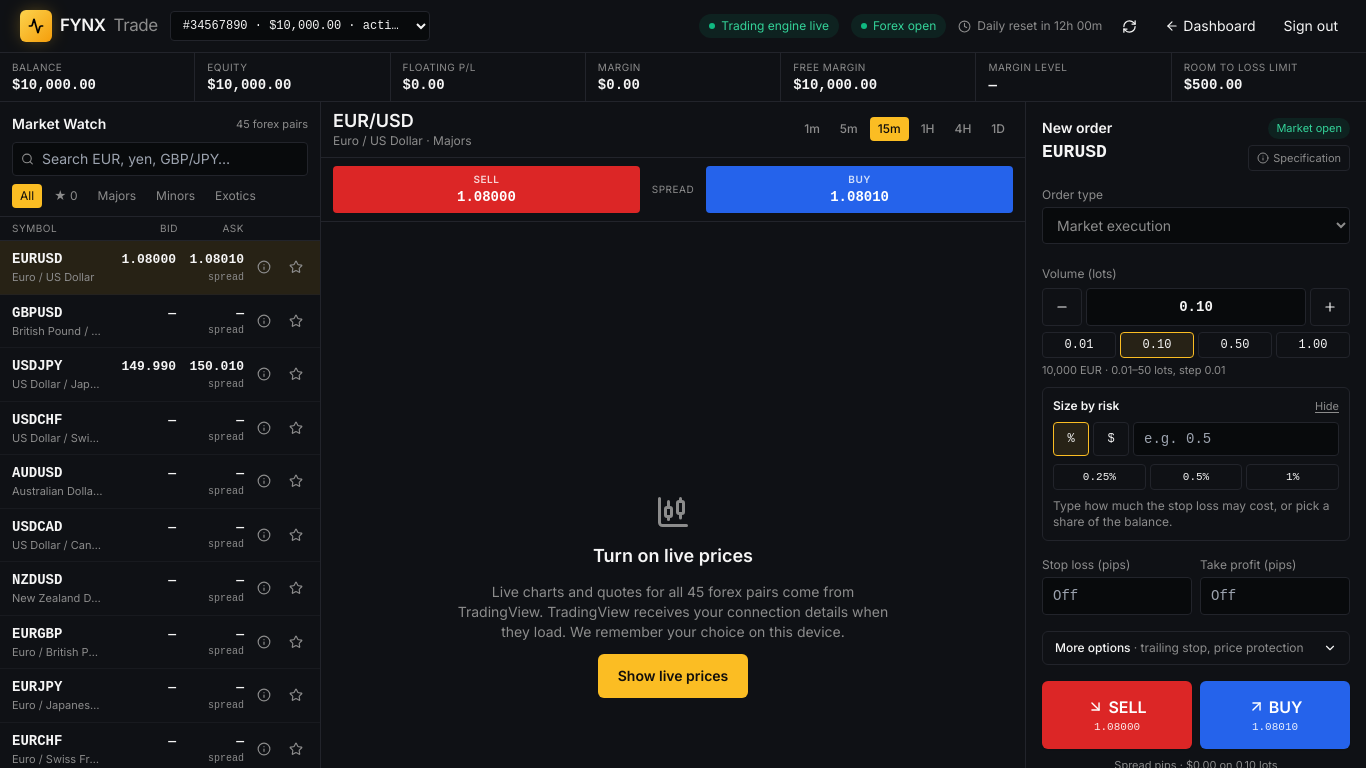
size by risk in the order ticket › works out the volume from a share of the balance and fills the volume field
Earlier steps of the test are not shown.
Expected: the element with test id "risk-size" shows "Type how much the stop loss may cost", [1053, 498, 1330, 528]
Click the button named "Risk 0.5% of the balance": point(1196, 476) [1150, 464, 1242, 490]
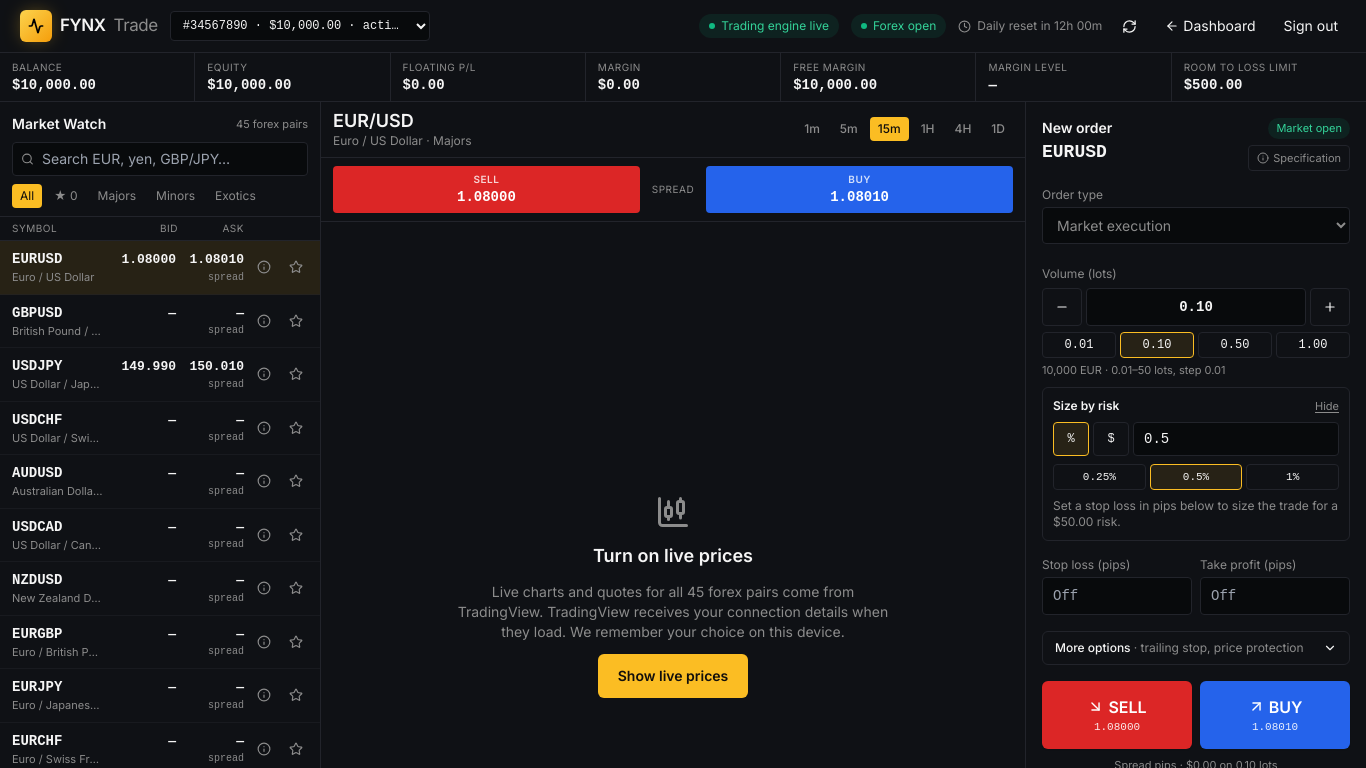
Expected: the element with test id "risk-size" shows "Set a stop loss in pips below to size the trade for a $50.00 risk.", [1042, 386, 1350, 540]
In the field labelled "Stop loss (pips)": point(1117, 596) [1042, 576, 1192, 614], type "15"
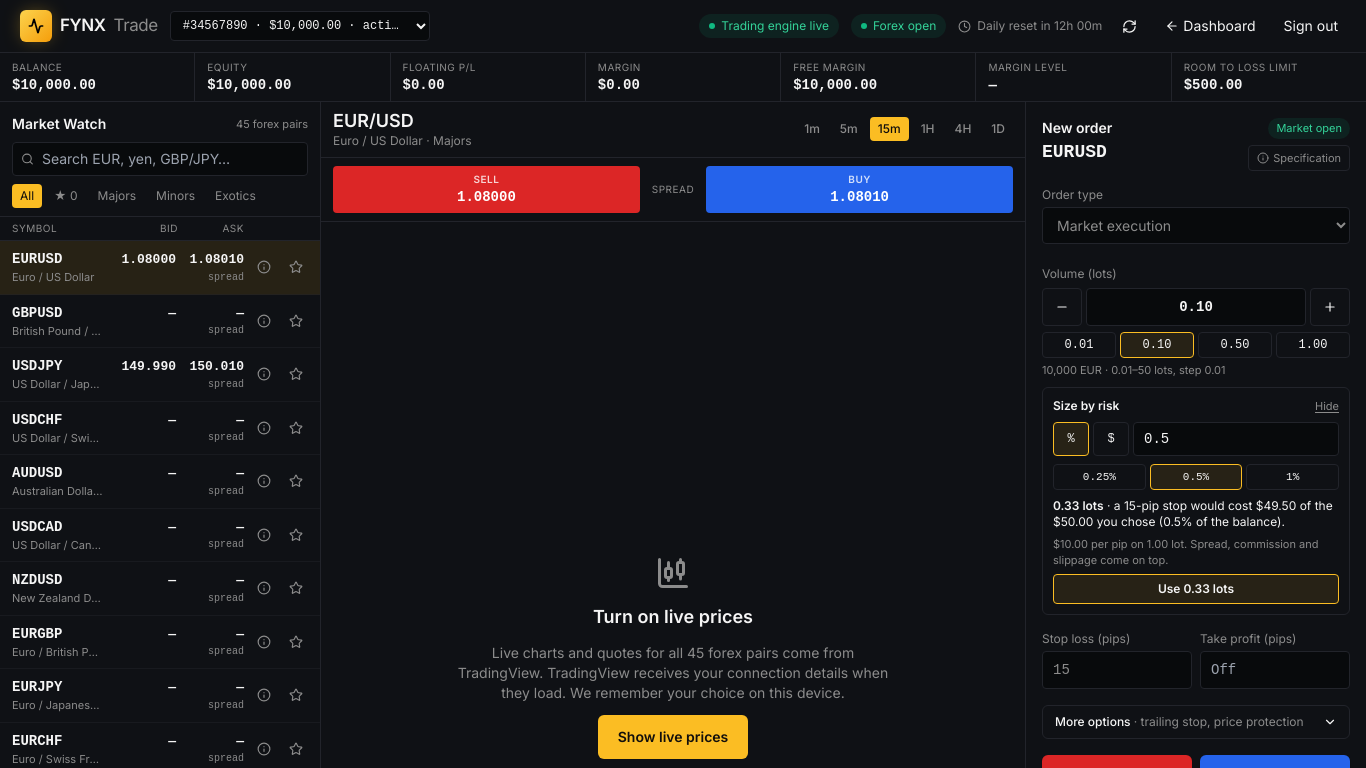
Expected: the element with test id "risk-size-result" shows "0.33 lots · a 15-pip stop would cost $49.50 of the $50.00 you chose (0.5% of the balance).", [1053, 498, 1339, 530]
Click the button with test id "risk-size-use": point(1196, 588) [1053, 574, 1339, 604]
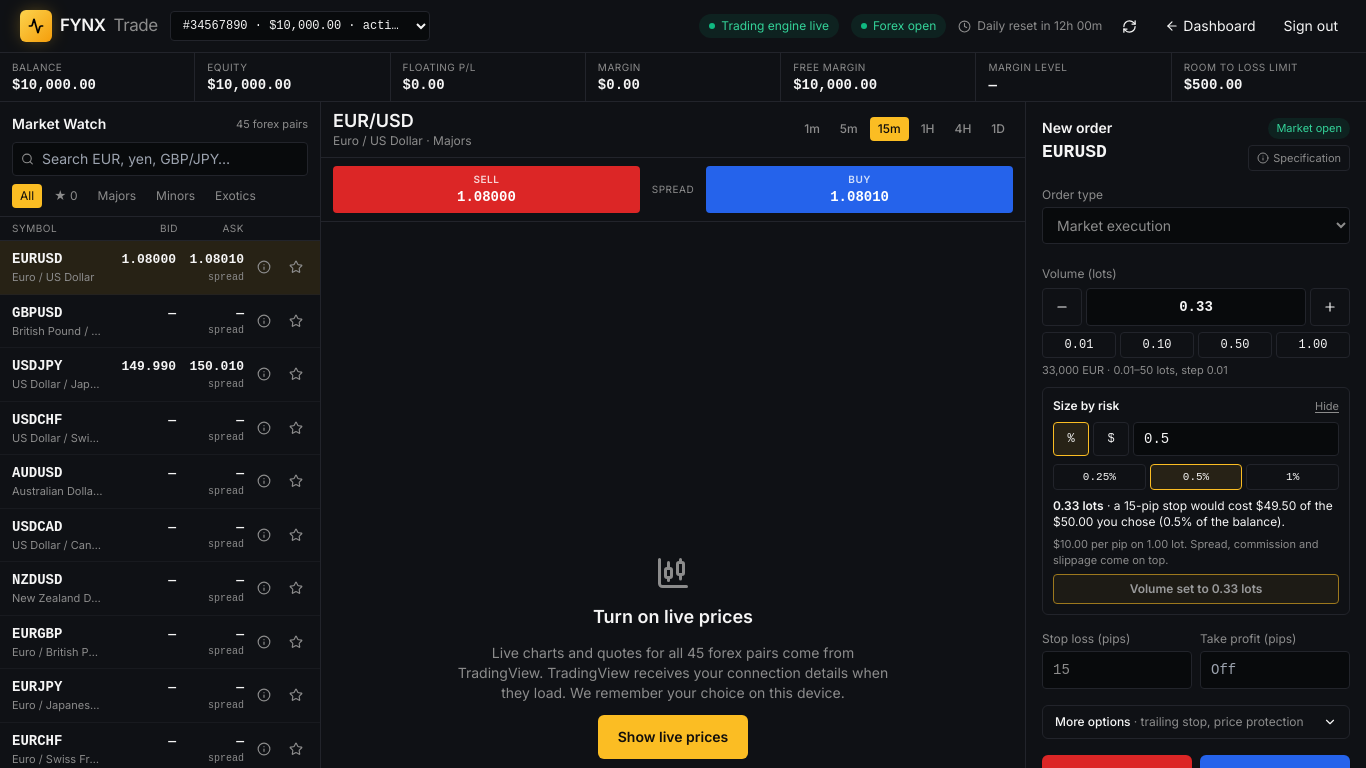
Expected: the field labelled "Volume (lots)" holds "0.33", [1086, 288, 1306, 326]
Expected: the button with test id "risk-size-use" reads "Volume set to 0.33 lots", [1053, 574, 1339, 604]
// Dollars, too, with a warning when the risk reaches the loss limit ($1,000 of room on a fresh $10,000 account).
Click the button named "Dollars": point(1111, 438) [1093, 422, 1129, 456]
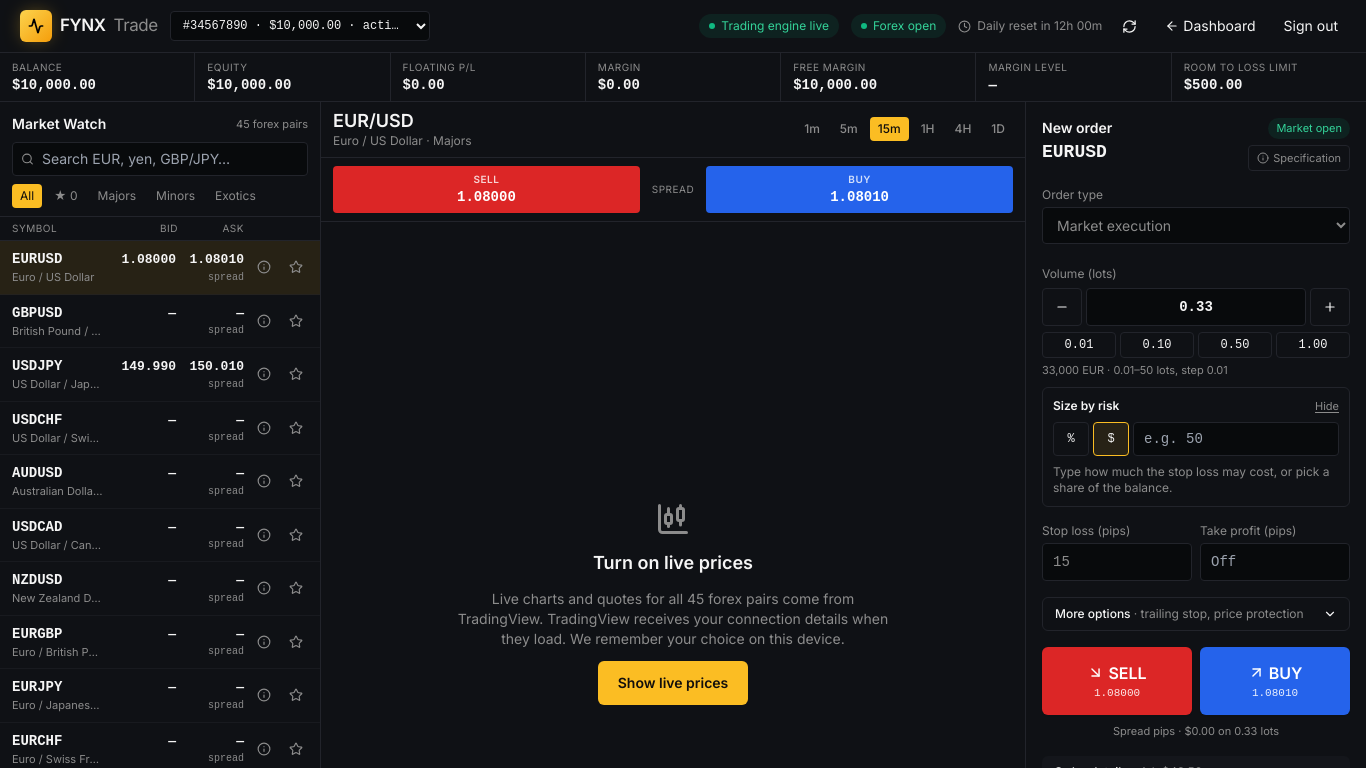
In the field named "Risk (dollars)": point(1236, 438) [1133, 422, 1339, 456], type "1000"
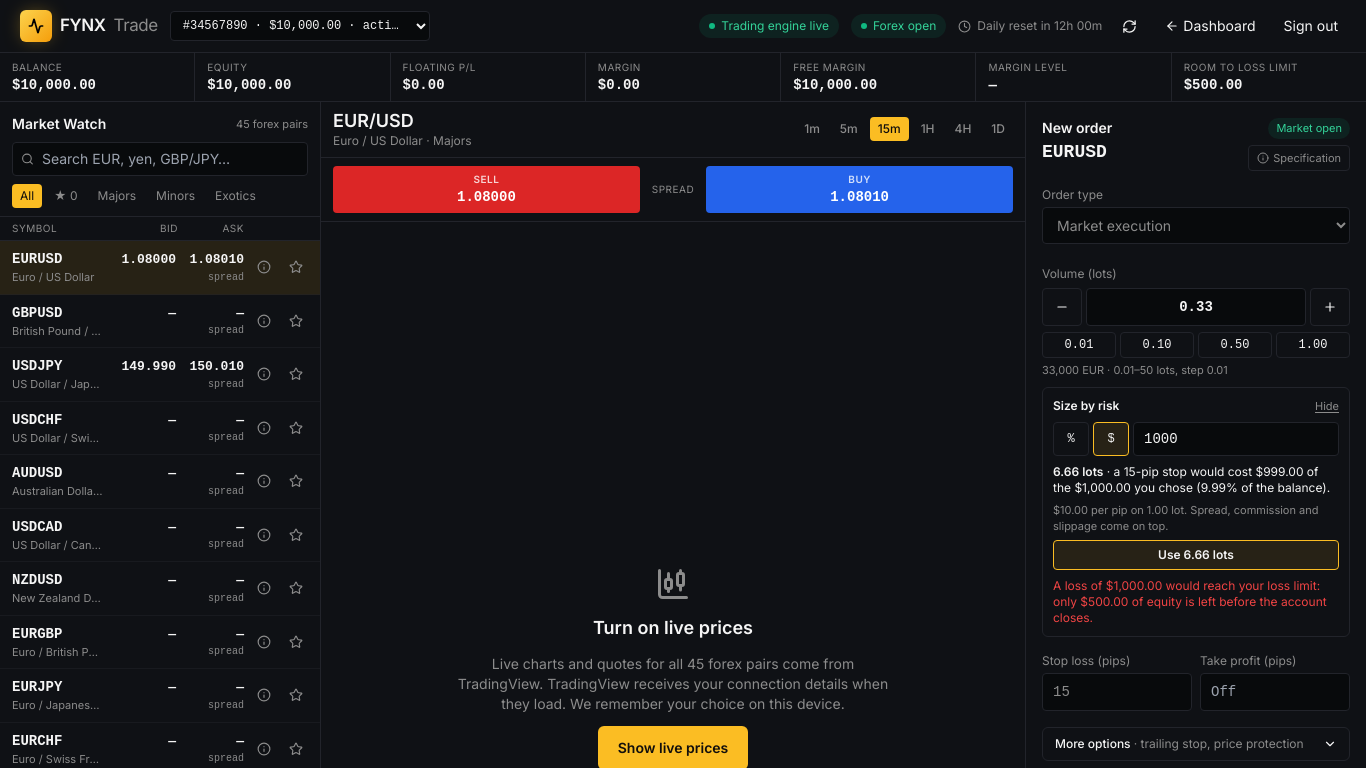
Expected: the message with test id "risk-size-warning" shows "would reach your loss limit", [1053, 578, 1327, 624]
Replace the text in the field named "Risk (dollars)" with "0.5": point(1236, 438) [1133, 422, 1339, 456]
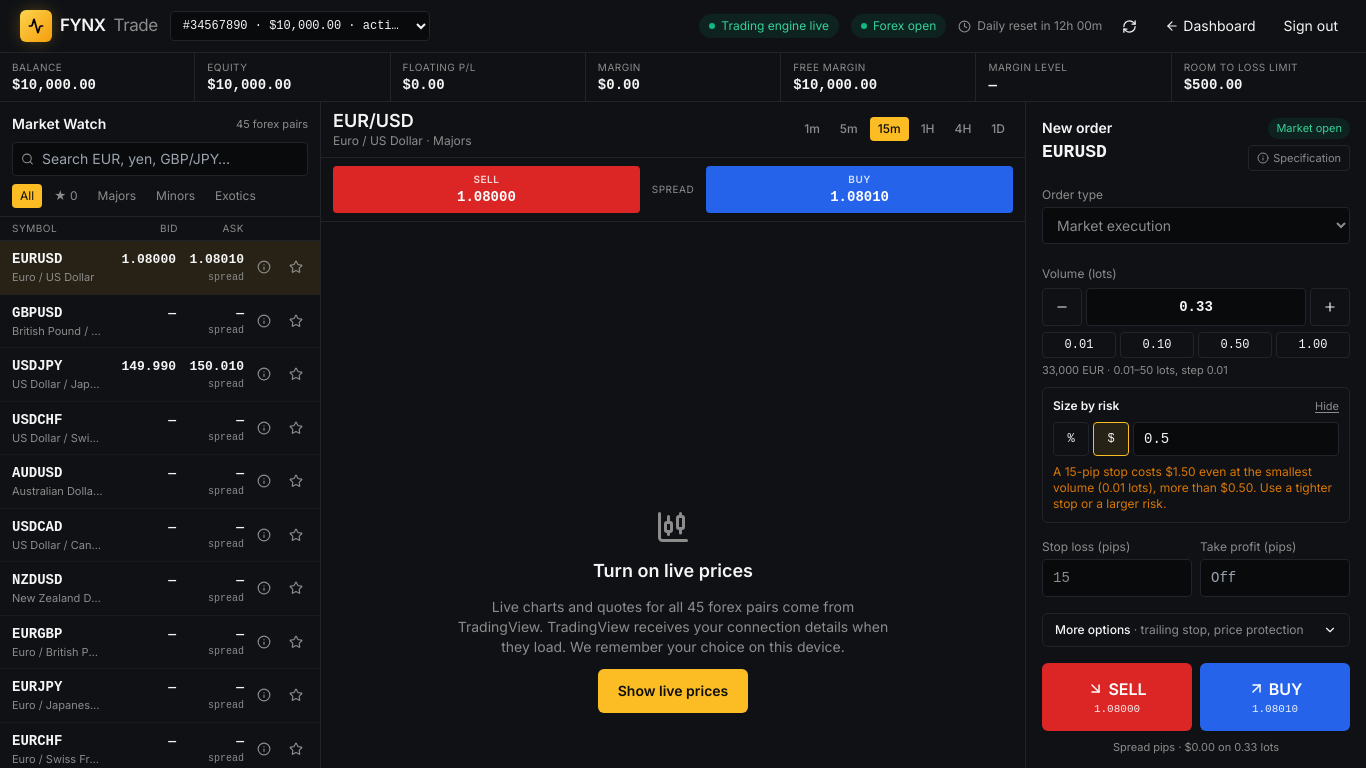
Expected: the element with test id "risk-size" shows "A 15-pip stop costs $1.50 even at the smallest volume (0.01 lots), more than $0.50.", [1042, 386, 1350, 522]
